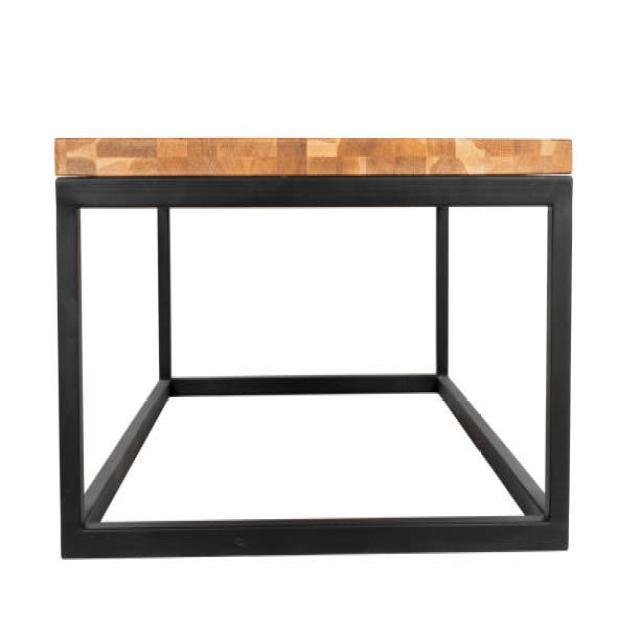table: (54, 136, 573, 557)
